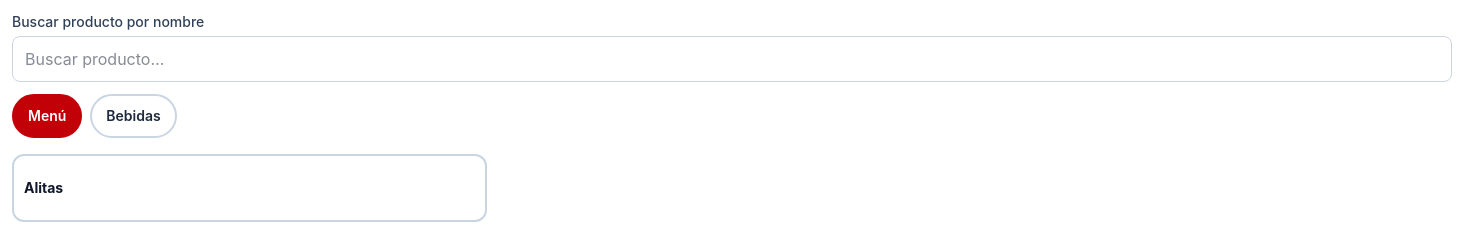
Scenario: ProductGrid search and categories › has no Todos pill, starts on the first category and filters by category pill, with pills at least 44px tall
This screenshot has width=1464, height=239.
expect the button "Alitas" is shown: met, box [14,156,485,220]
expect the button "Coca-Cola" is not shown: met
Click the button "Bebidas" at {"x": 134, "y": 116}, box [90,94,177,138]
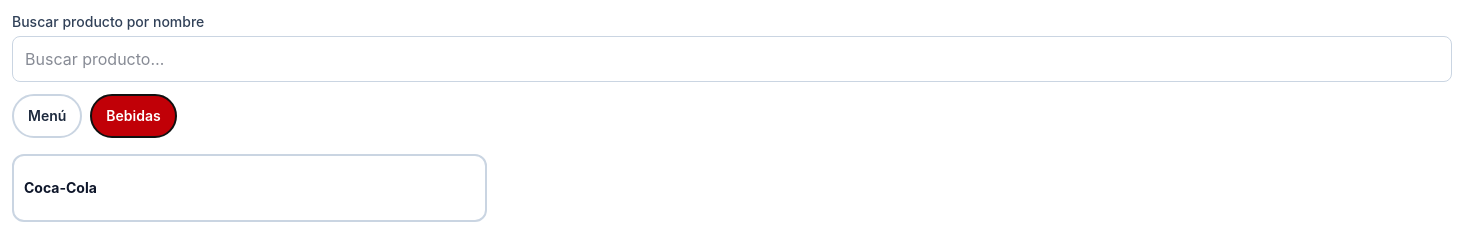
expect the button "Alitas" is gone: met
expect the button "Coca-Cola" is shown: met, box [14,156,485,220]
